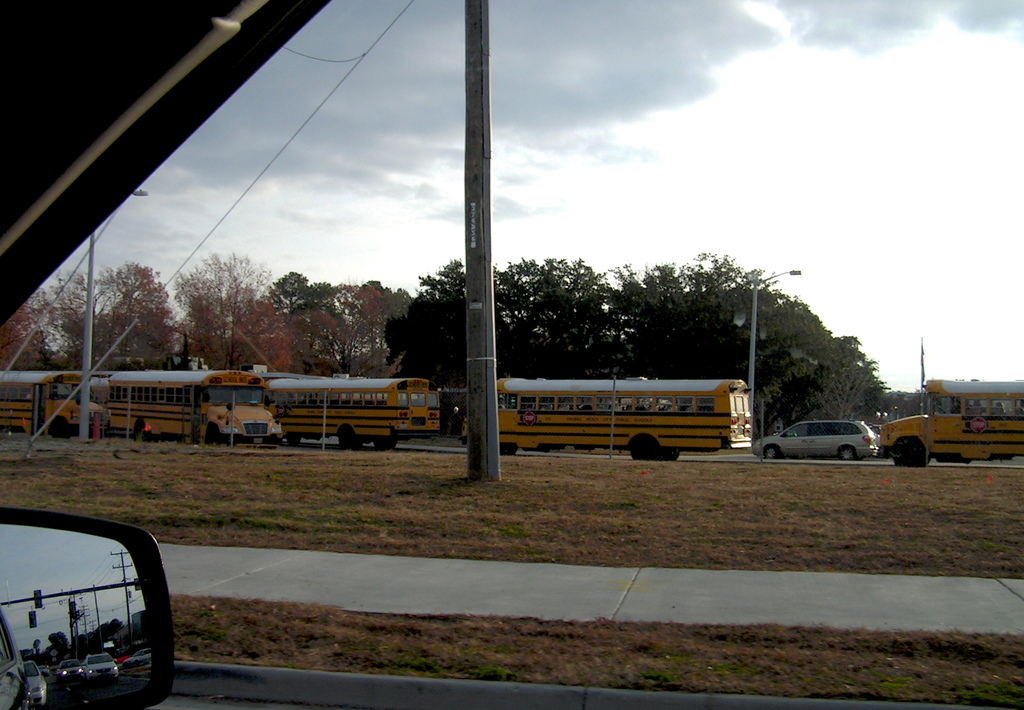Tree: (261, 249, 889, 428), (0, 259, 170, 373), (173, 247, 295, 375)
